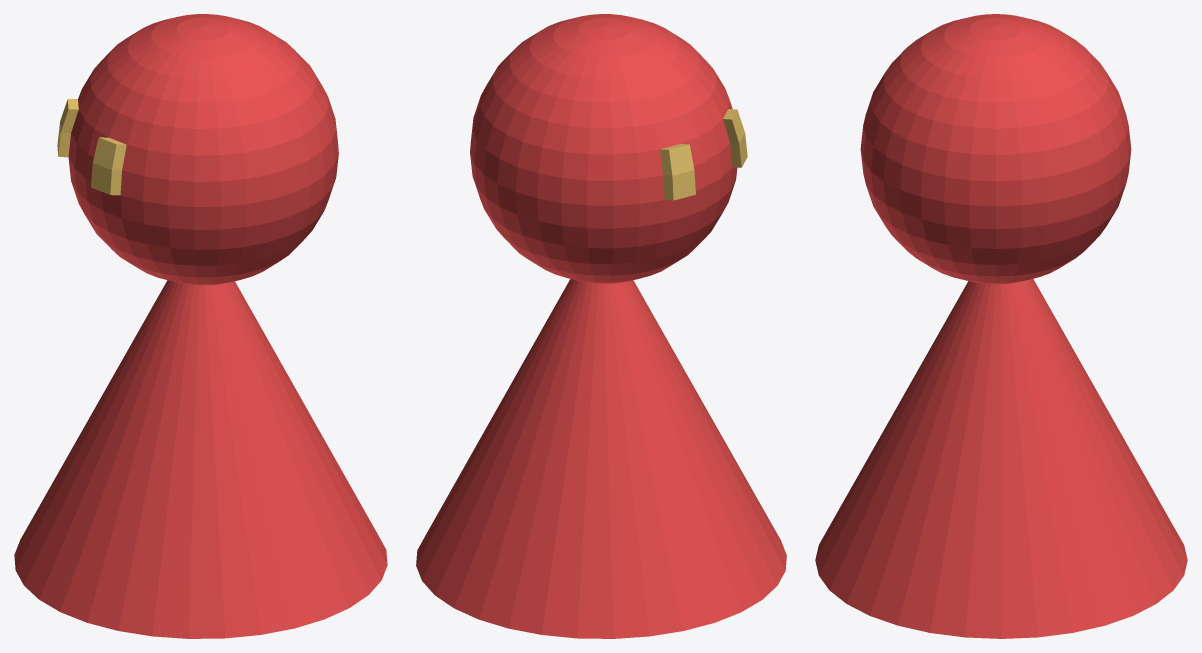
The model's file is animate1_1.glb.
3 renders of one model, left to right at view 1: azimuth 30°, elevation 25°; view 2: azimuth 150°, elevation 25°; view 3: azimuth 270°, elevation 25°, orthographic.
Parts seen in each view (by area): view 1: hito1_1; view 2: hito1_1; view 3: hito1_1.
Boxes of the visible parts, <box> form: hito1_1: <box>14,14,387,638</box>; hito1_1: <box>416,14,786,638</box>; hito1_1: <box>815,14,1187,638</box>.
Size of the model in its own units: 1.7 by 2.69 by 1.7.
